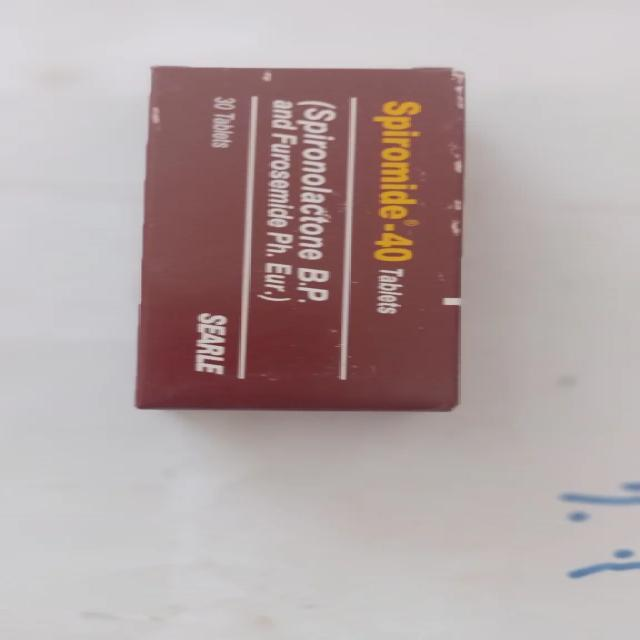drug-name: (369, 94, 421, 264)
